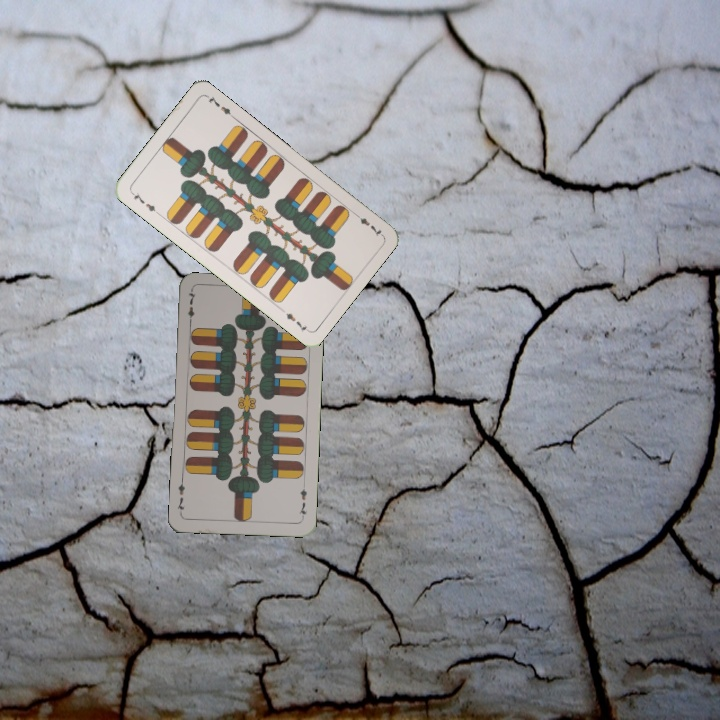E7: (350, 210, 385, 239), (127, 189, 162, 217), (184, 287, 198, 328), (295, 485, 310, 521)
